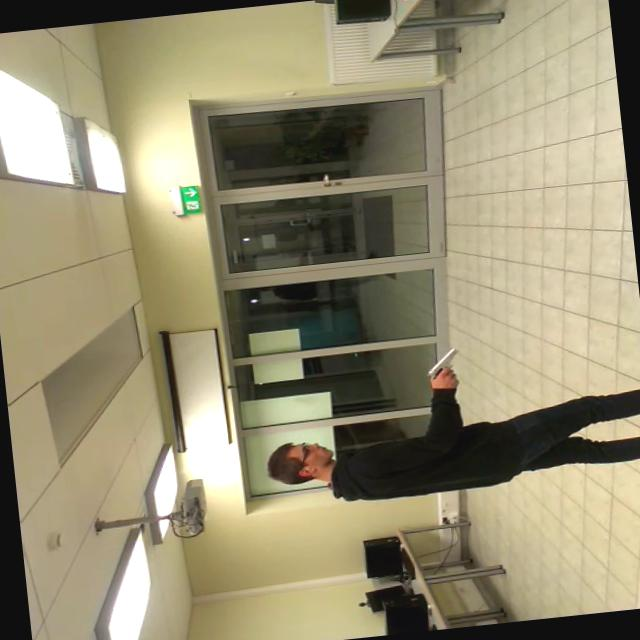handgun: (407, 337, 475, 381)
